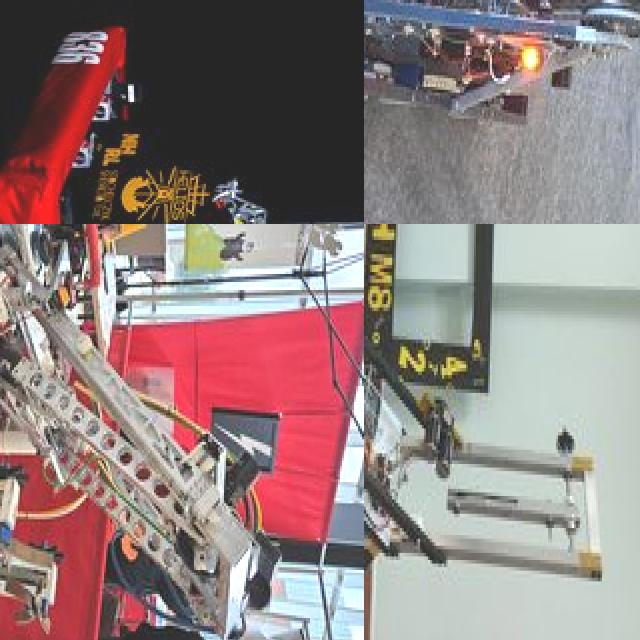FRC-Robots: (0, 224, 274, 615), (364, 271, 620, 640), (9, 0, 364, 224), (364, 0, 640, 211)
